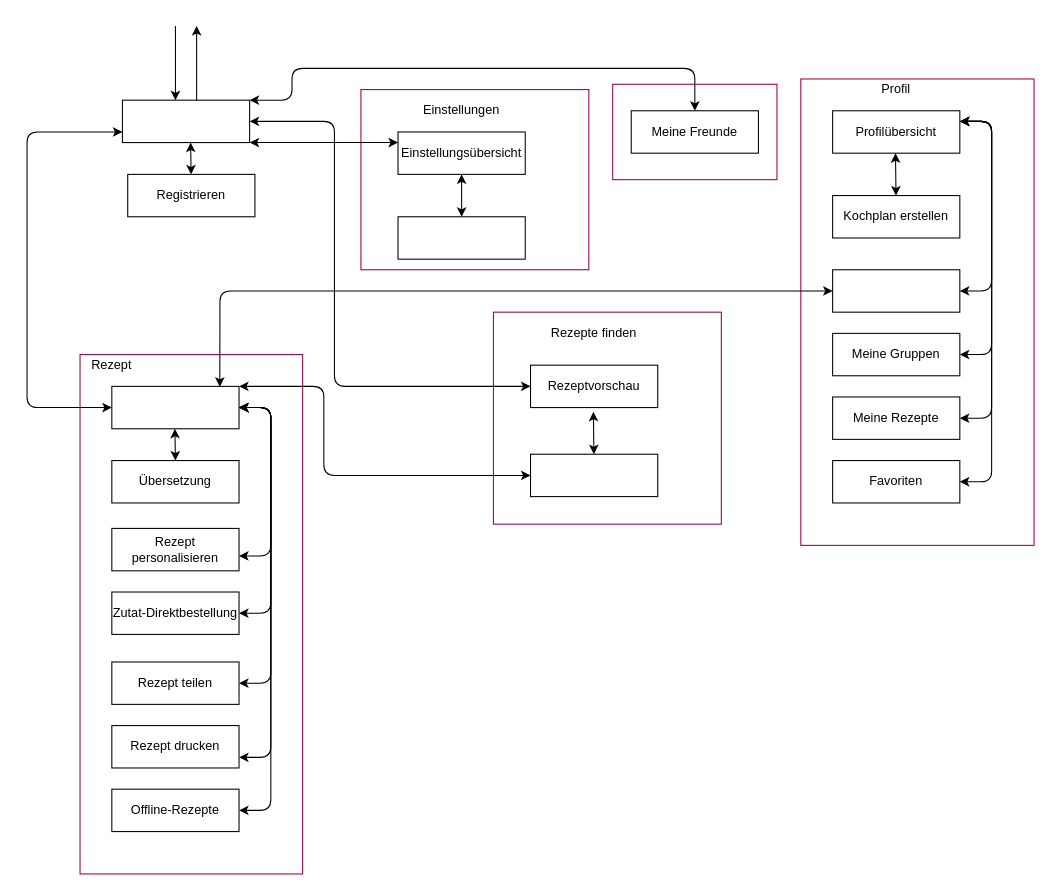
Image size: 1053x893. Some labels were removed from this diagram. Each missing label, with the centre of its shape:
"Profilgestaltung" goes at (x=461, y=237).
"Rezept anklicken" goes at (x=593, y=475).
"Rezept erstellen" goes at (x=896, y=290).
"Rezeptübersicht" goes at (x=175, y=407).
"Startseite" goes at (x=185, y=121).
